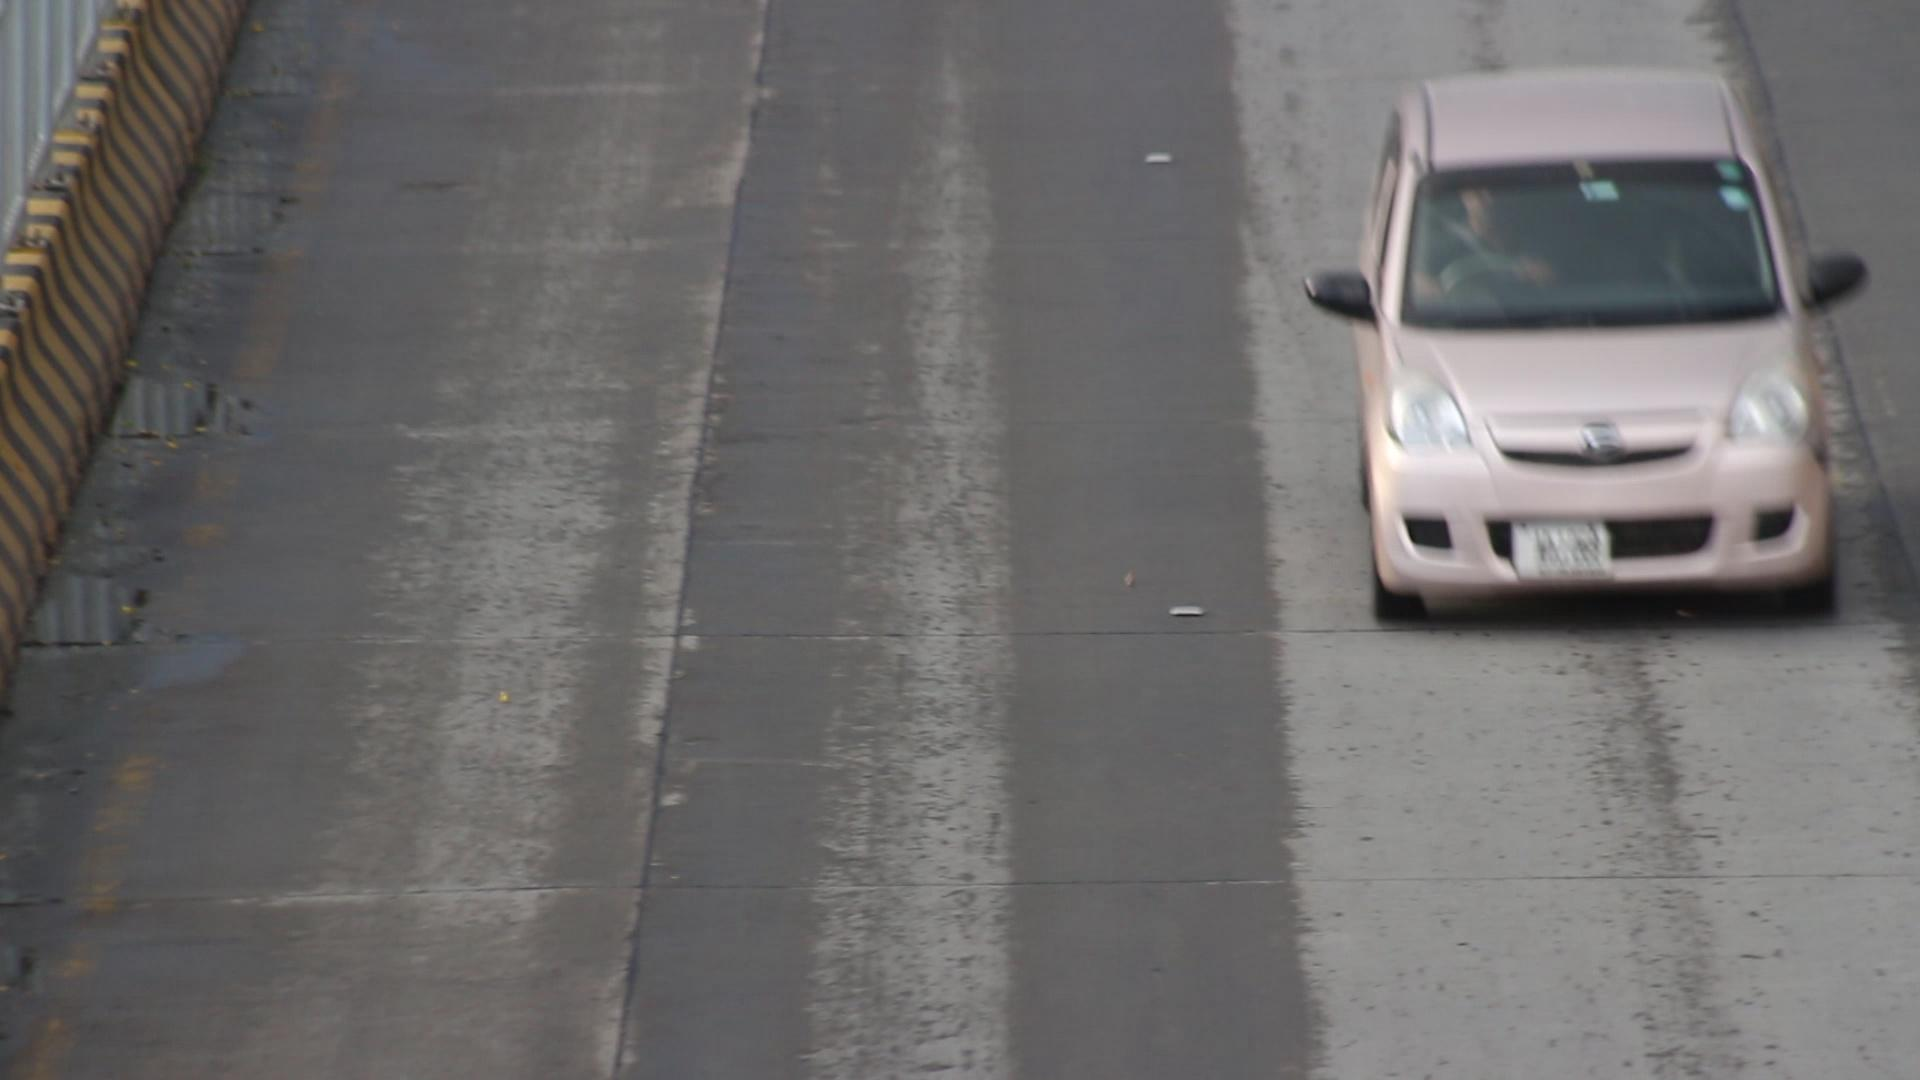windshield: (1400, 146, 1807, 353)
